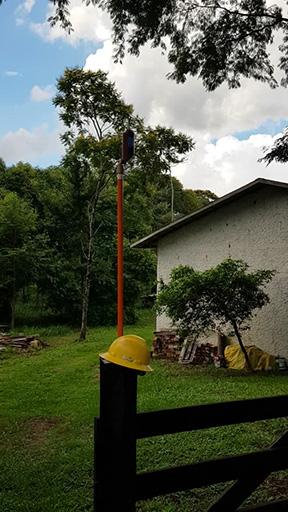Detector_Tensao_Contato: (118, 119, 136, 168)
Vara_Manobra: (115, 165, 125, 339)
